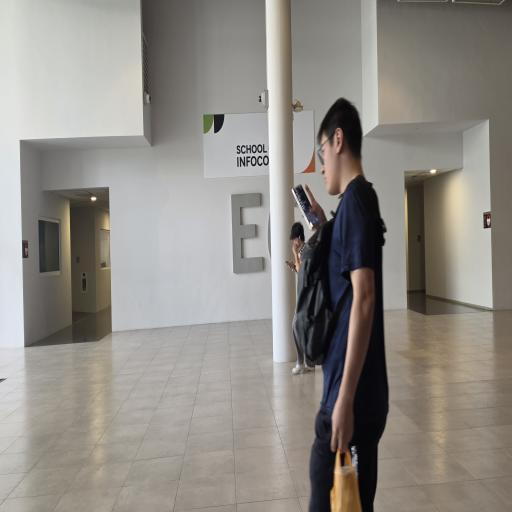person_left: (309, 103, 383, 512), (286, 214, 318, 372)
